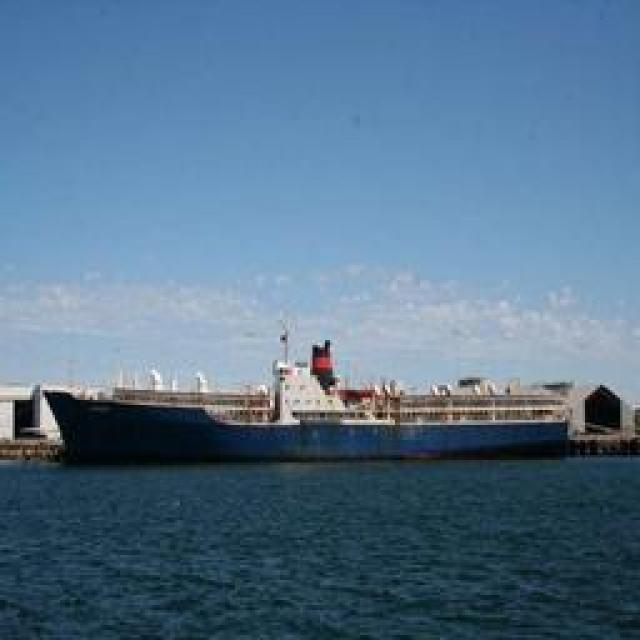CIV_Ship: (40, 341, 578, 461)
